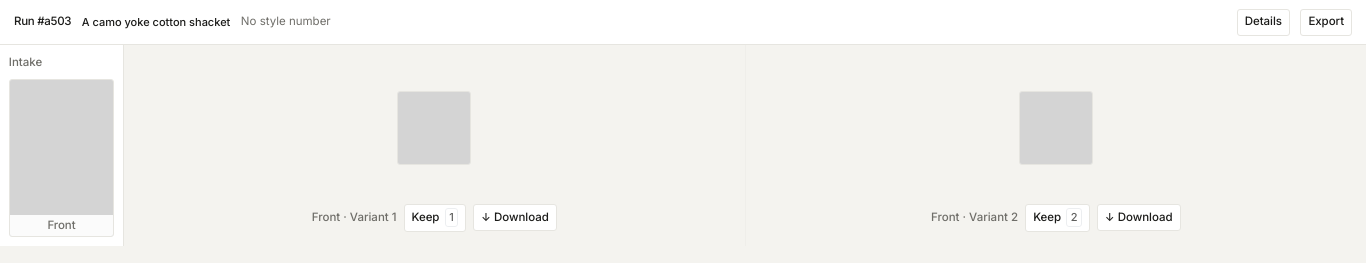
Test case: stage › offers no download on an intake photo, which is not an export
Click the button with alt text "front intake photo": [62, 158] box [9,79,114,237]
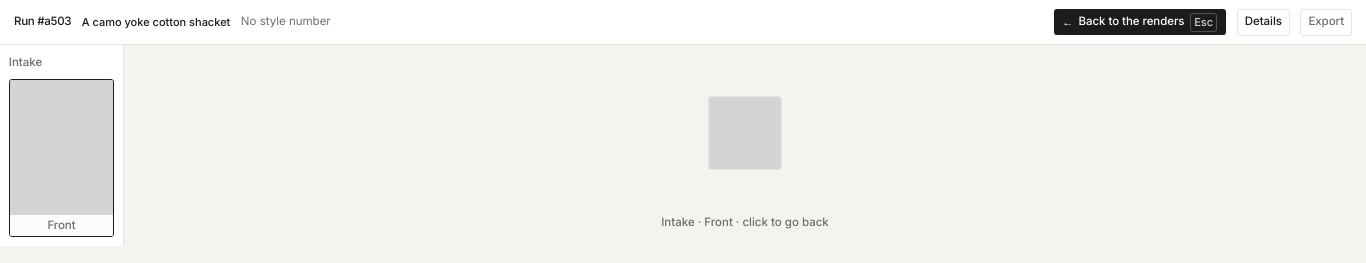
Expected: the button "Download" is gone
